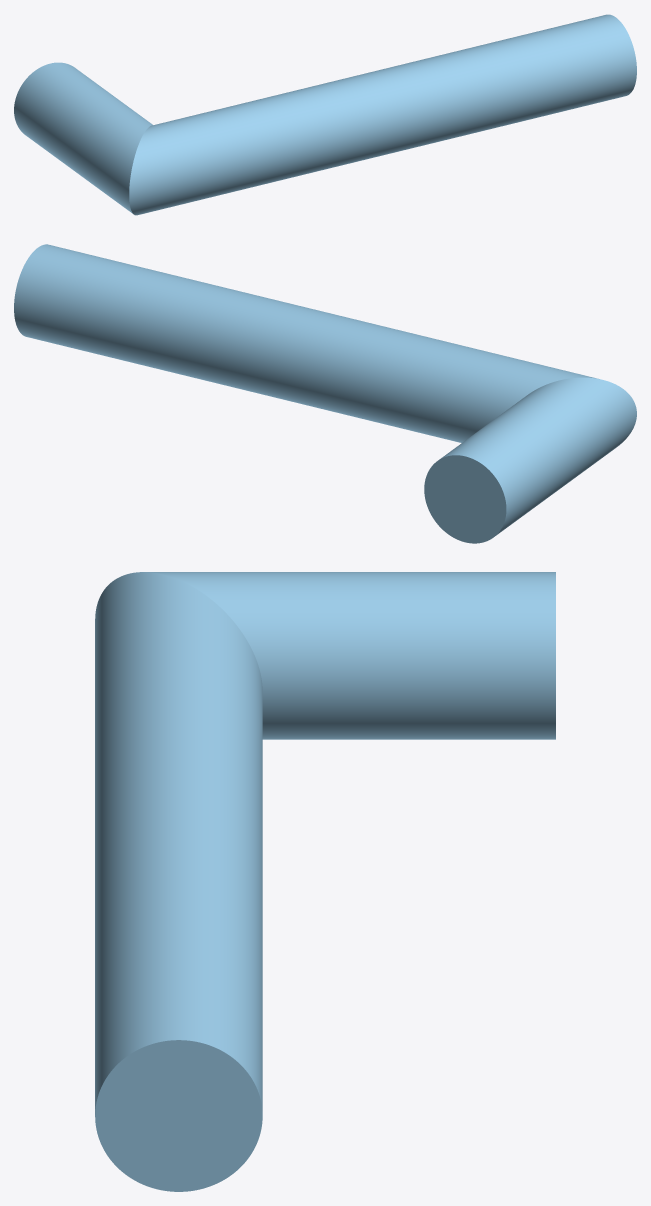
File: door_lever.obj
3 views of the same model, one above another, from view 1: azimuth 30°, elevation 25°; view 2: azimuth 150°, elevation 25°; view 3: azimuth 270°, elevation 25° (orthographic). The views are drawn at different scales.
Visible parts, largest first — view 1: mesh2, mesh1; view 2: mesh2, mesh1, mesh0; view 3: mesh2, mesh1, mesh3.
Boxes of the visible parts, x1,y1,x2,y2 form: mesh2: (129, 14, 636, 215); mesh1: (14, 62, 152, 213); mesh2: (14, 244, 598, 442); mesh1: (439, 377, 636, 535); mesh0: (424, 455, 506, 543); mesh2: (95, 572, 262, 1114); mesh1: (147, 572, 555, 739); mesh3: (95, 1040, 262, 1191).
Bounding box in the file's own units: 0.14 × 0.02 × 0.055.
